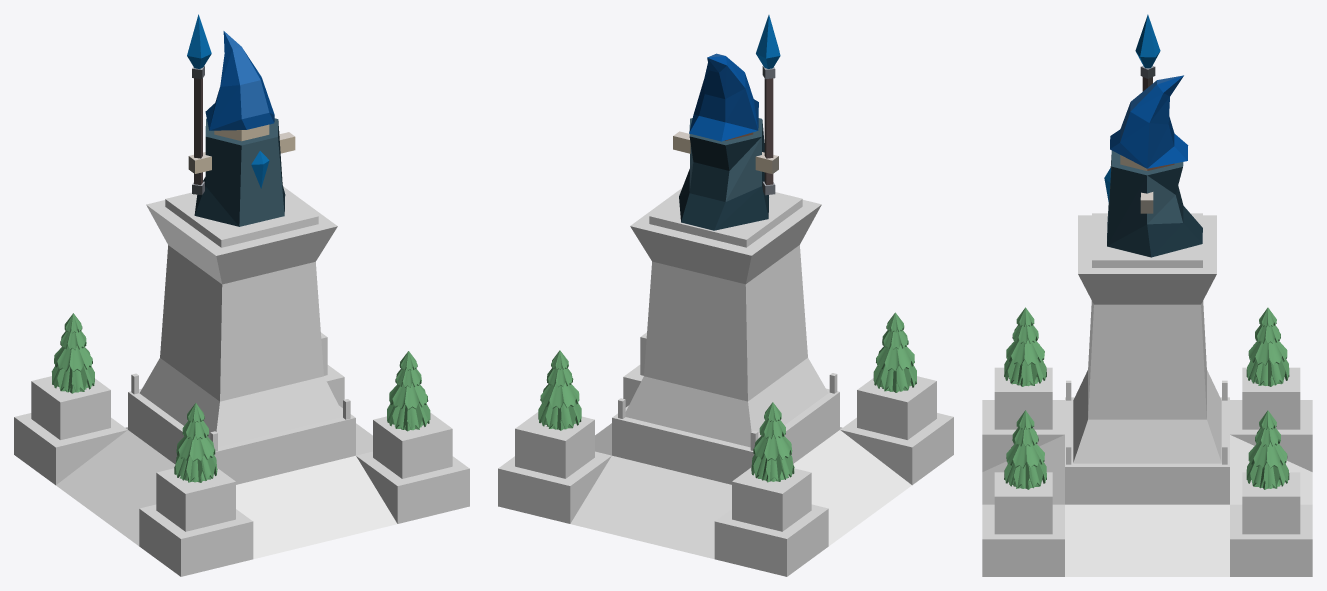
The model's file is MagicianTowerNew.fbx.
3 views of the same model, side by side, from view 1: azimuth 30°, elevation 25°; view 2: azimuth 150°, elevation 25°; view 3: azimuth 270°, elevation 25° (orthographic).
Parts seen in each view (by area): view 1: Cube, TB_Soldier_Mage, Tree; view 2: Cube, TB_Soldier_Mage, Tree; view 3: Cube, TB_Soldier_Mage, Tree, Cube.001.
Part boxes in pixels (x1,y1,x2,y2): Cube: [14, 186, 469, 576]; TB_Soldier_Mage: [187, 14, 295, 226]; Tree: [51, 313, 430, 482]; Cube: [498, 188, 953, 576]; TB_Soldier_Mage: [673, 15, 780, 230]; Tree: [538, 312, 916, 482]; Cube: [982, 213, 1312, 576]; TB_Soldier_Mage: [1104, 14, 1202, 257]; Tree: [1004, 307, 1289, 489]; Cube.001: [1066, 380, 1227, 464].
Size of the model in its own units: 798 by 1259 by 798.
Materials: 5 (1 with a texture image).
